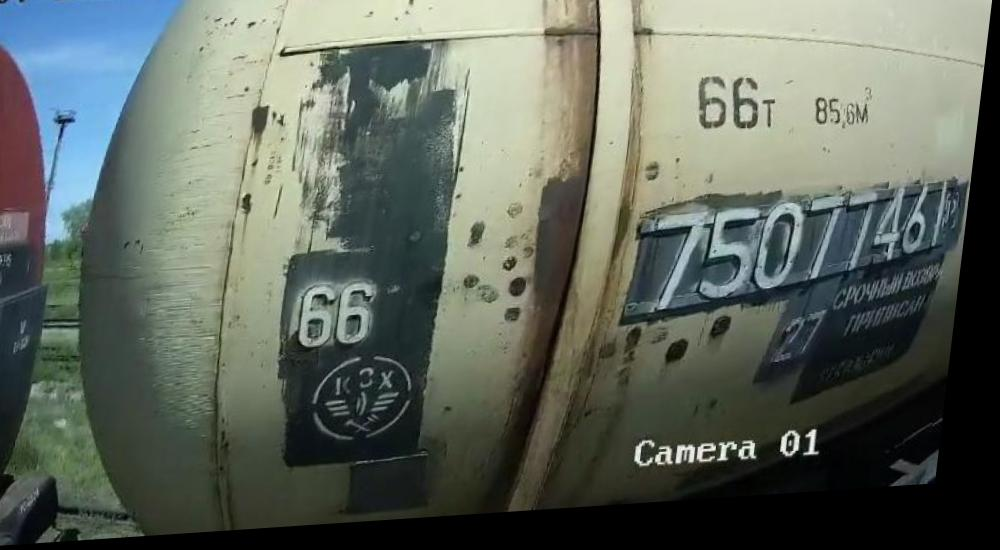Wagon-number: (642, 190, 961, 323)
